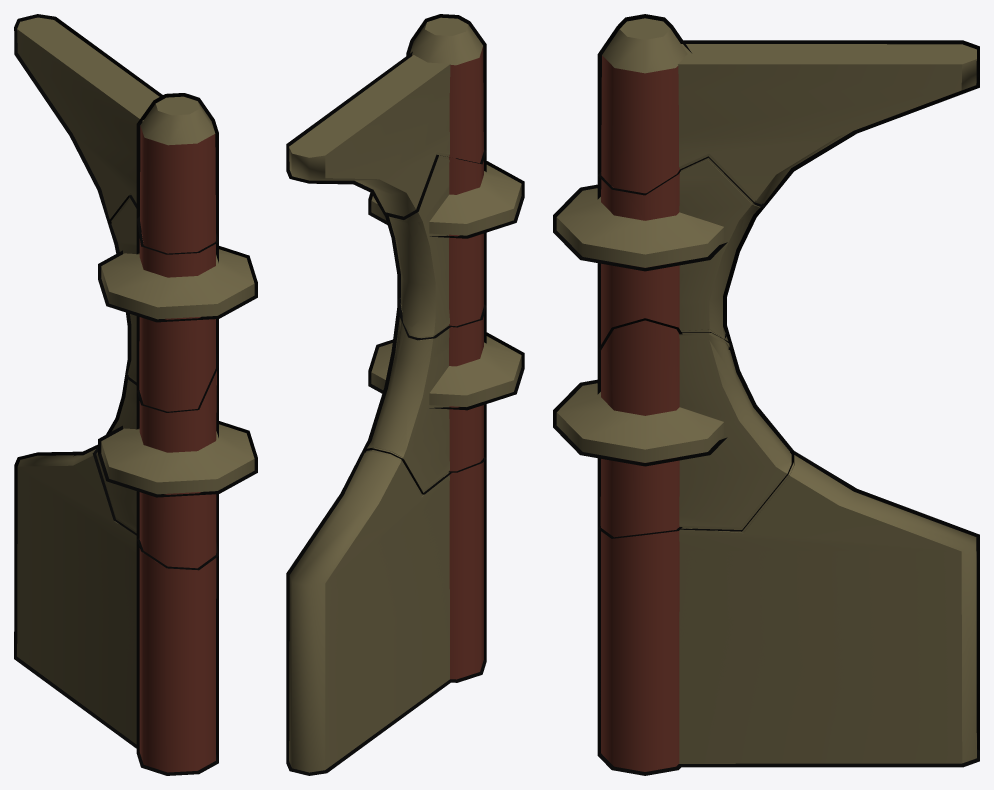
File: Obstacle5.fbx
3 views of the same model, side by side, from view 1: azimuth 30°, elevation 25°; view 2: azimuth 150°, elevation 25°; view 3: azimuth 270°, elevation 25° (orthographic). The views are drawn at different scales.
Visible parts, largest first — view 1: Cube, Fragments, Fragments.001, Fragments.002, Fragments.003; view 2: Cube, Fragments, Fragments.001, Fragments.002, Fragments.003; view 3: Cube, Fragments, Fragments.001, Fragments.003, Fragments.002.
Boxes of the visible parts, <box> form: Cube: <box>14,14,257,775</box>; Fragments: <box>14,444,218,772</box>; Fragments.001: <box>17,17,218,254</box>; Fragments.002: <box>98,196,257,412</box>; Fragments.003: <box>92,367,253,570</box>; Cube: <box>286,14,524,775</box>; Fragments: <box>286,448,486,769</box>; Fragments.001: <box>286,14,486,219</box>; Fragments.002: <box>368,150,524,340</box>; Fragments.003: <box>367,304,519,494</box>; Cube: <box>553,14,979,775</box>; Fragments: <box>597,451,976,775</box>; Fragments.001: <box>598,14,979,207</box>; Fragments.003: <box>555,318,793,538</box>; Fragments.002: <box>557,159,763,350</box>.
Bounding box in the file's own units: 255 × 1112 × 589.
